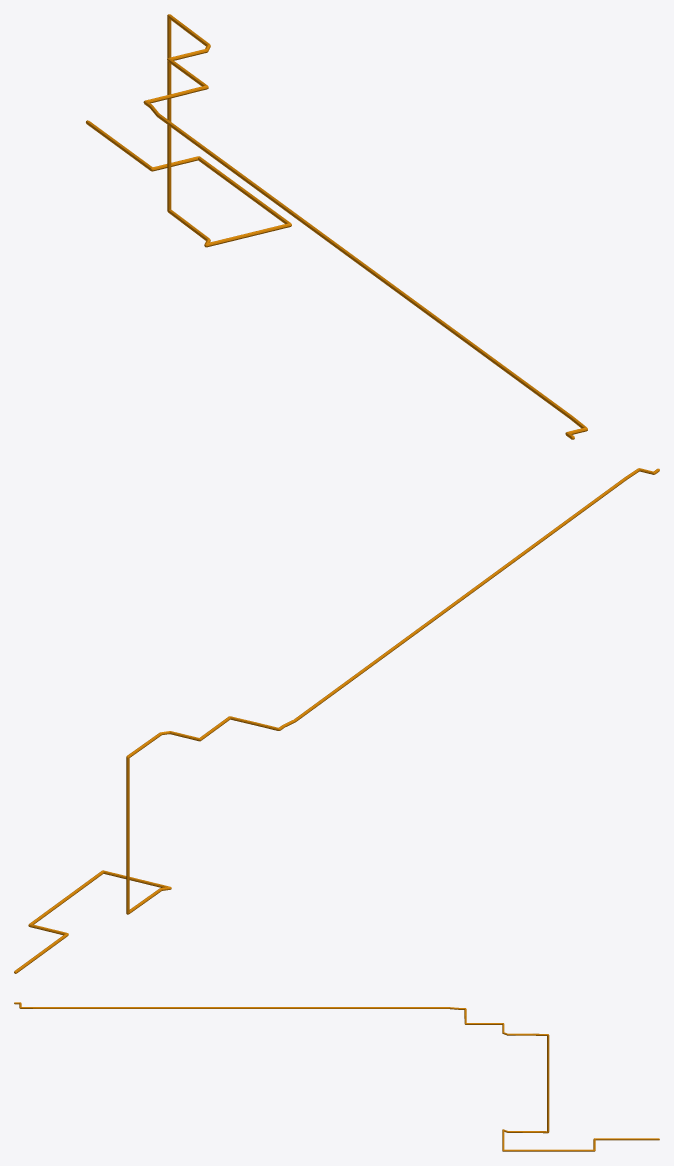
The picture shows the model from 3 angles, top to bottom: view 1: azimuth 30°, elevation 25°; view 2: azimuth 150°, elevation 25°; view 3: azimuth 270°, elevation 25°; orthographic projection. The views are drawn at different scales.
Size of the model in its own units: 1124 by 1020 by 6018.
